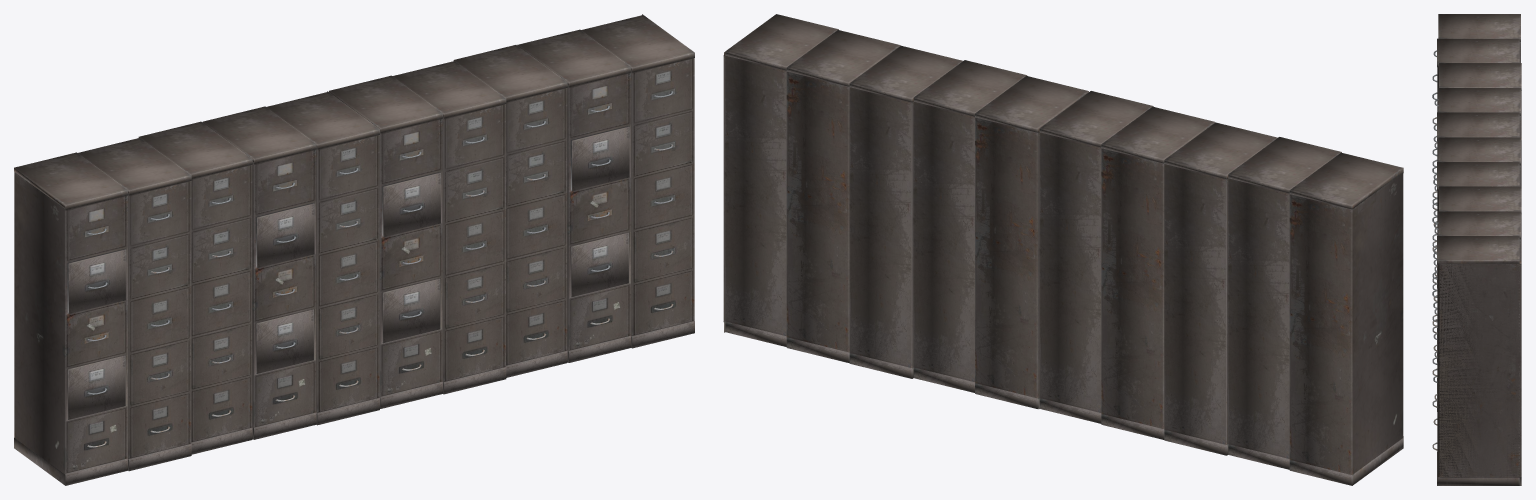
File: ArchiveroJefe.fbx
The picture shows the model from 3 angles, left to right: view 1: azimuth 30°, elevation 25°; view 2: azimuth 150°, elevation 25°; view 3: azimuth 270°, elevation 25°; orthographic projection. The views are drawn at different scales.
Visible parts, largest first — view 1: main.046; view 2: main.046; view 3: main.046.
Part boxes in pixels (<box>): main.046: <box>14,14,694,485</box>; main.046: <box>723,14,1403,485</box>; main.046: <box>1432,14,1521,485</box>.
Size of the model in its own units: 750 by 319 by 115.
1 material, 1 textured.
